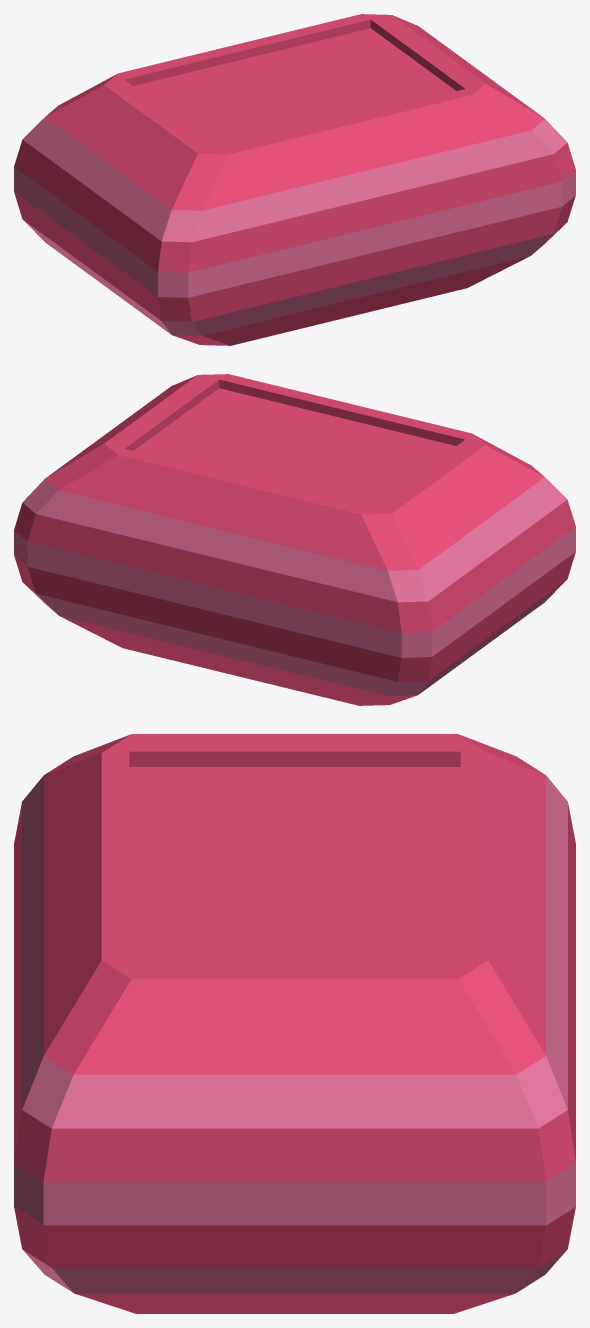
File: Soup.fbx
The picture shows the model from 3 angles, top to bottom: view 1: azimuth 30°, elevation 25°; view 2: azimuth 150°, elevation 25°; view 3: azimuth 270°, elevation 25°; orthographic projection. The views are drawn at different scales.
Visible parts, largest first — view 1: Куб; view 2: Куб; view 3: Куб.
Part boxes in pixels (left/top/right/bottom): Куб: left=14, top=14, right=575, bottom=345; Куб: left=14, top=374, right=575, bottom=705; Куб: left=14, top=734, right=575, bottom=1313.
Size of the model in its own units: 340 by 150 by 227.
